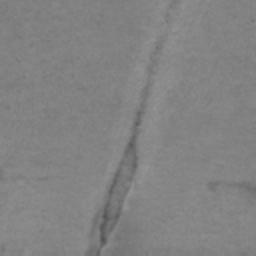Finishing roll printing: (97, 32, 169, 252)
